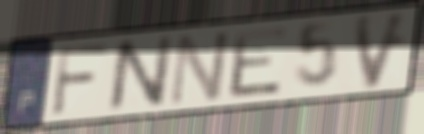5: (295, 18, 343, 95)
E: (227, 24, 291, 101)
F: (48, 41, 112, 118)
N: (106, 32, 176, 115), (166, 28, 233, 109)
V: (350, 9, 413, 93)
